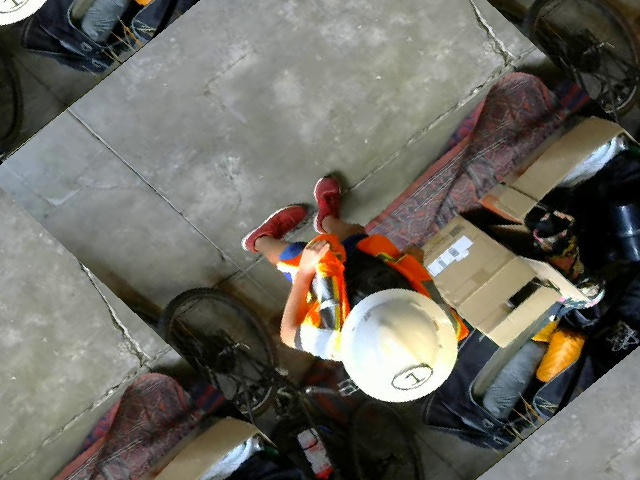one: (387, 356, 436, 398)
